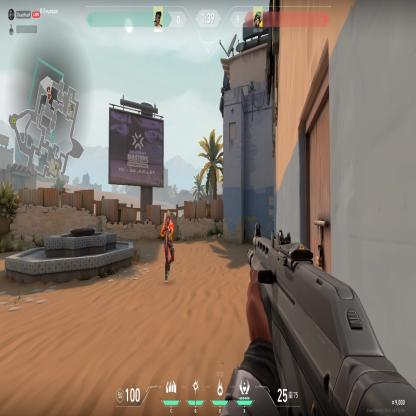enemy: (159, 208, 176, 286)
